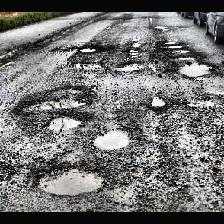pothole: (34, 164, 106, 196), (18, 87, 92, 111), (90, 127, 130, 152), (41, 112, 84, 132), (178, 61, 214, 77), (150, 96, 167, 108), (78, 47, 96, 53), (154, 24, 168, 30), (167, 44, 183, 48), (173, 48, 189, 52)
